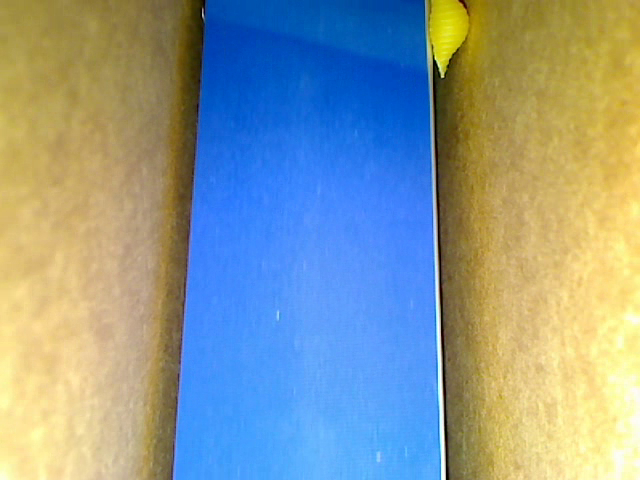shell: (424, 1, 469, 81)
